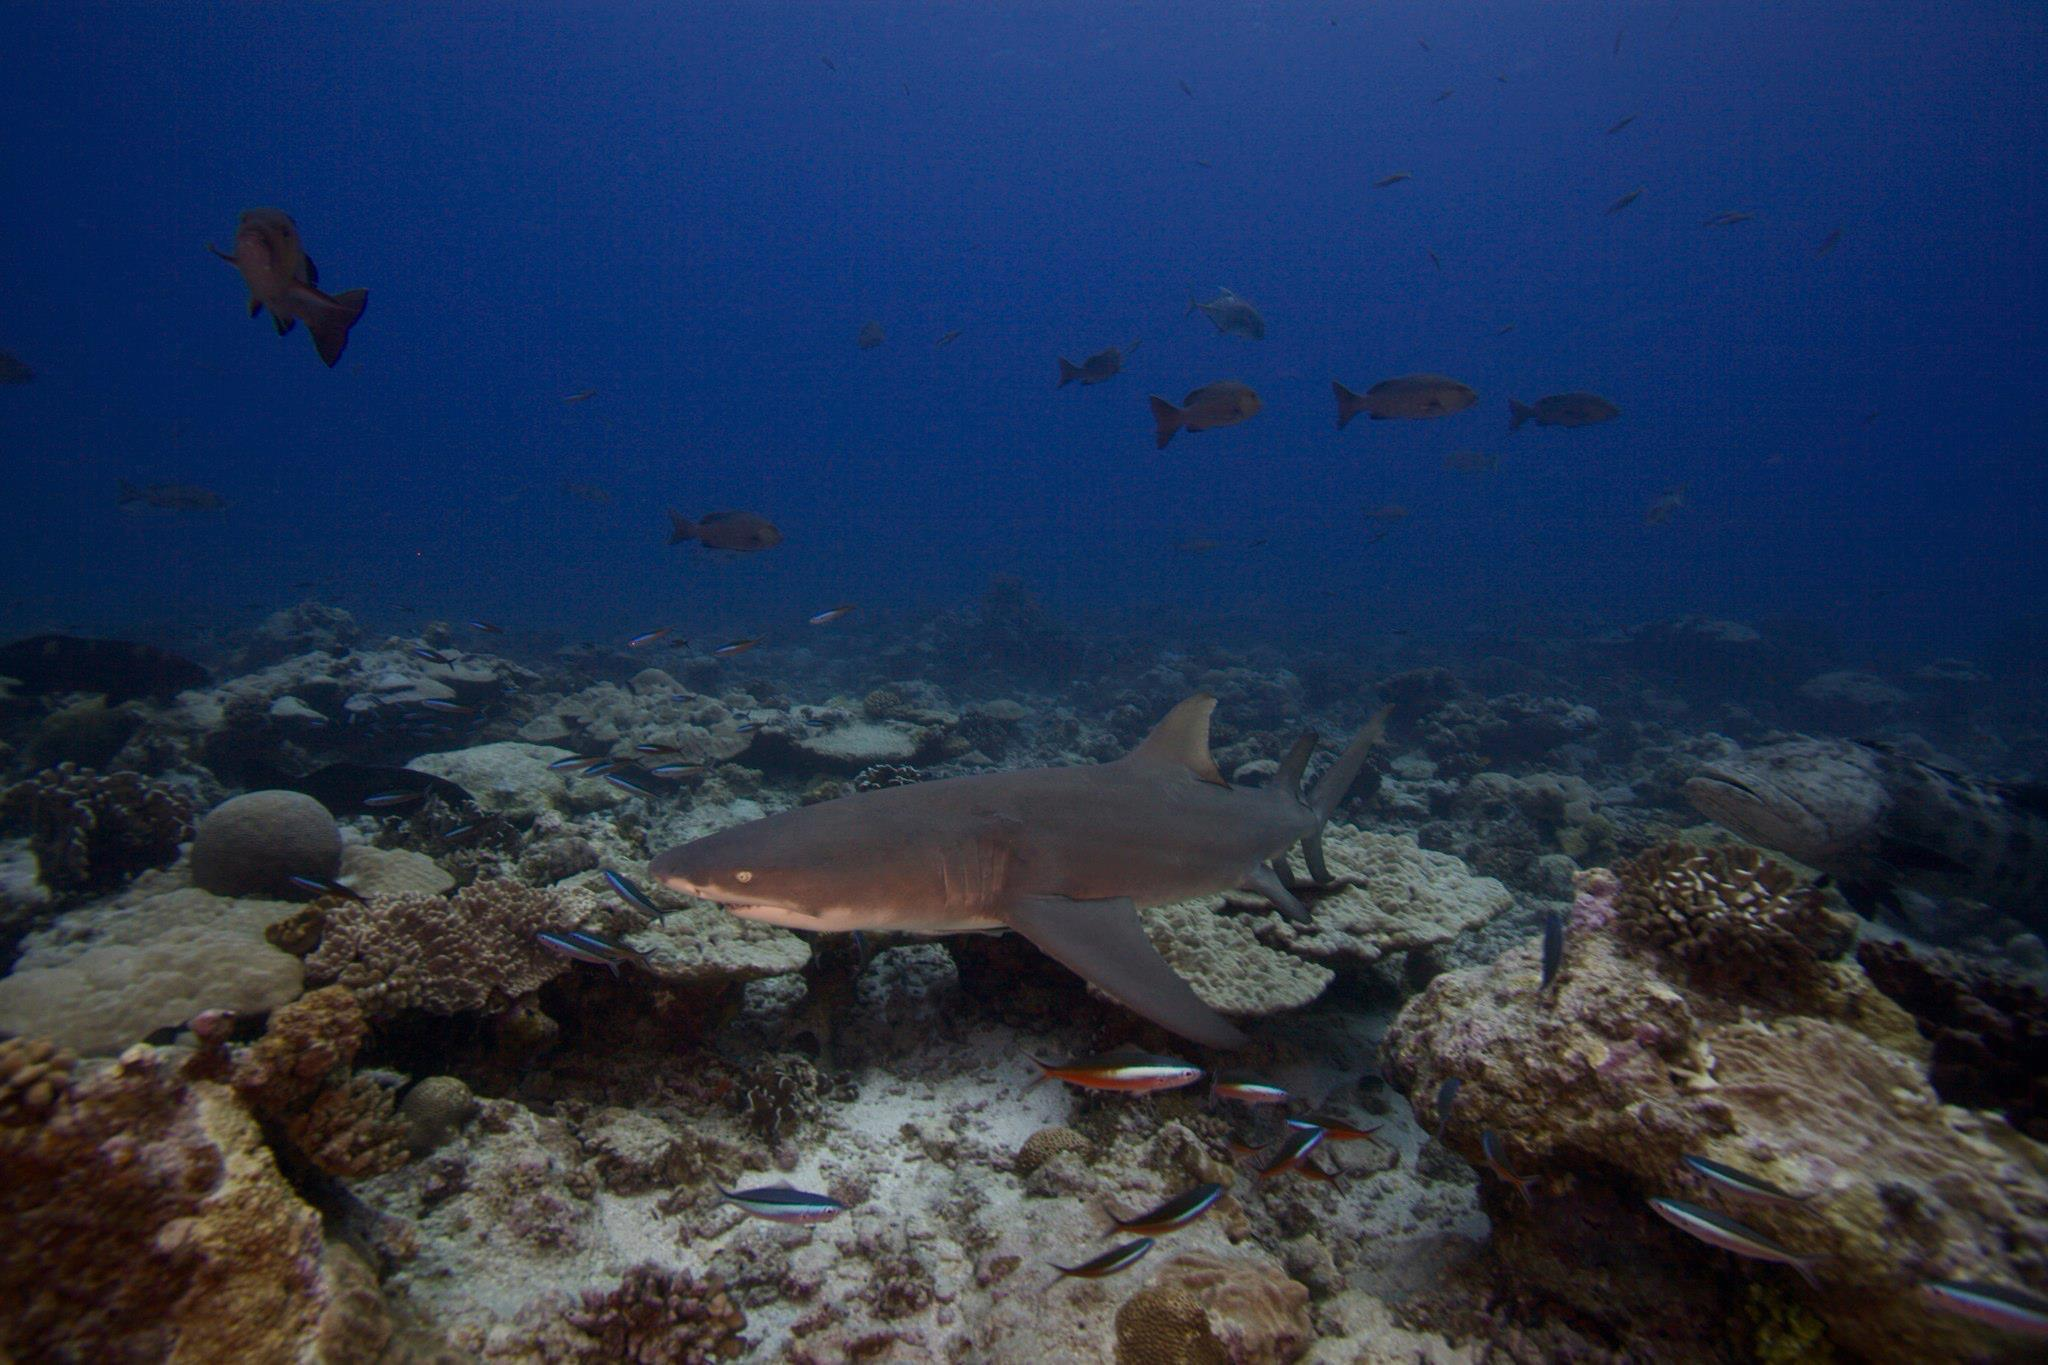Fish: (638, 667, 1471, 1092)
